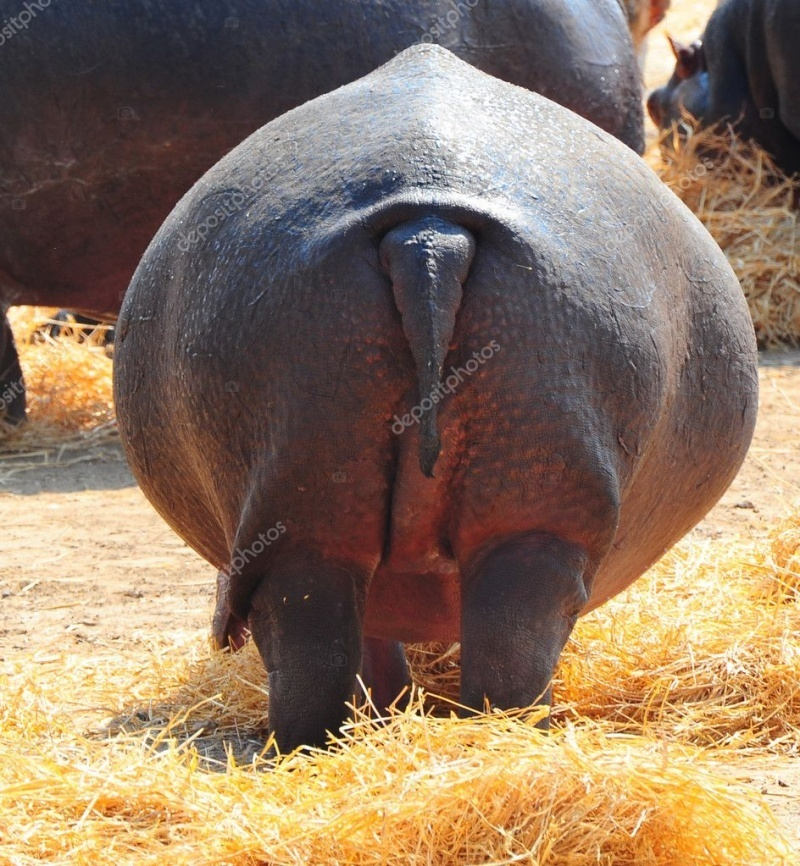hipopotamo: (102, 41, 760, 746)
